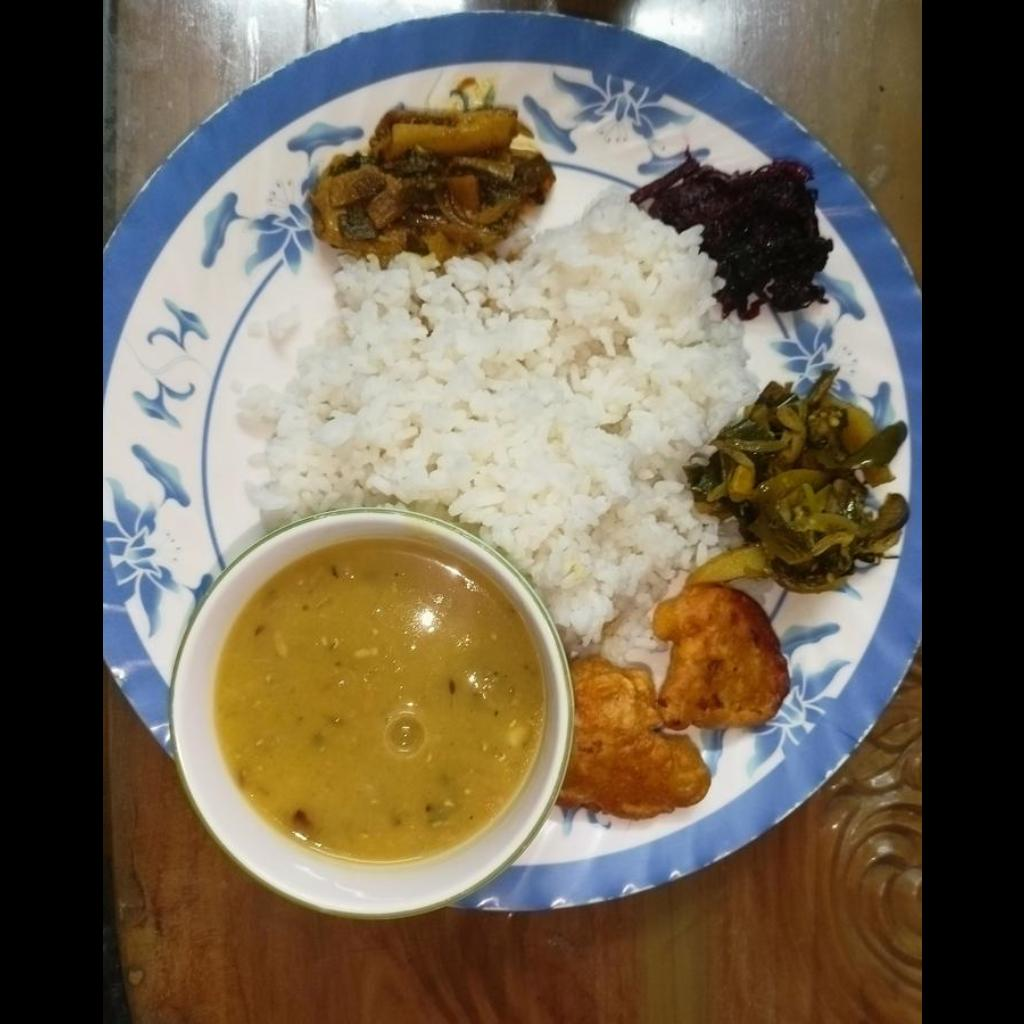chicken: (564, 581, 788, 824)
daal: (214, 546, 535, 855)
rice: (236, 192, 741, 646)
shak: (638, 154, 832, 313)
vaji: (312, 104, 558, 258)
vegetable: (686, 370, 908, 592)
